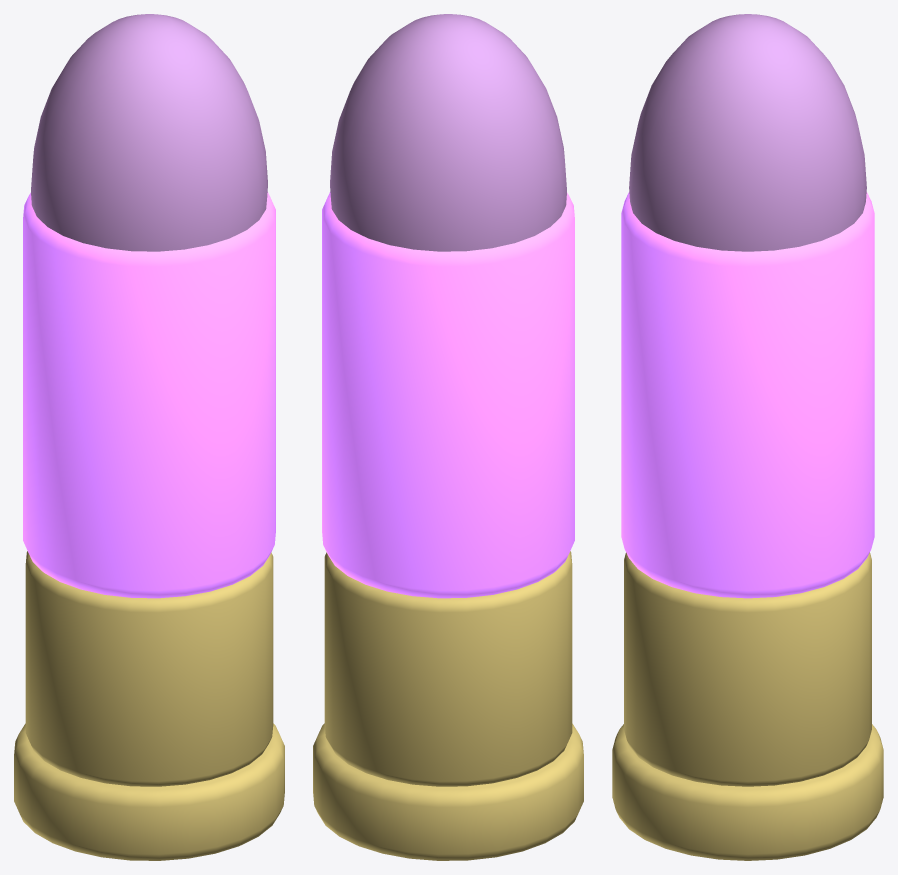
Rendered from shell_inverted.glb.
The picture shows the model from 3 angles, left to right: view 1: azimuth 30°, elevation 25°; view 2: azimuth 150°, elevation 25°; view 3: azimuth 270°, elevation 25°; orthographic projection.
Parts seen in each view (by area): view 1: Hull, BaseCup, ProjectileTip, Rim; view 2: Hull, BaseCup, ProjectileTip, Rim; view 3: Hull, BaseCup, ProjectileTip, Rim.
Boxes of the visible parts, x1,y1,x2,y2 form: Hull: [23, 192, 275, 598]; BaseCup: [25, 551, 273, 786]; ProjectileTip: [31, 14, 267, 251]; Rim: [14, 723, 284, 860]; Hull: [322, 192, 574, 598]; BaseCup: [324, 551, 572, 786]; ProjectileTip: [330, 14, 566, 251]; Rim: [313, 723, 583, 860]; Hull: [621, 192, 874, 598]; BaseCup: [624, 552, 871, 786]; ProjectileTip: [629, 14, 866, 251]; Rim: [612, 724, 883, 860].
Size of the model in its own units: 0.21 by 0.6826 by 0.21.
